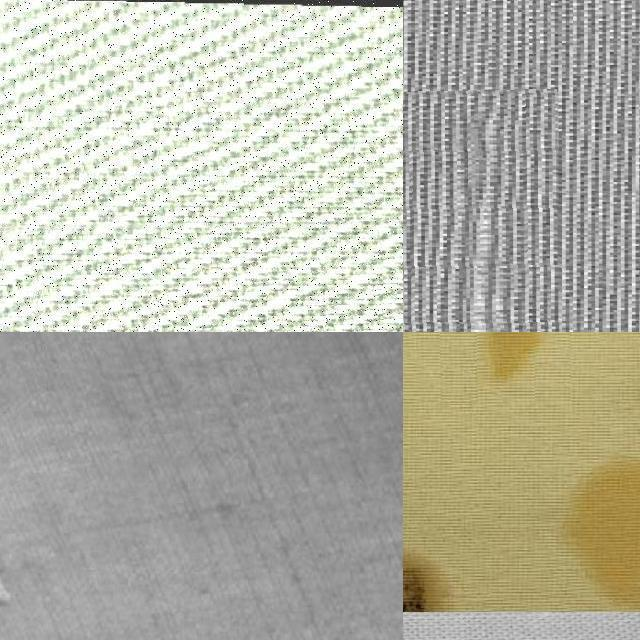Thread_other: (529, 439, 640, 611), (440, 332, 571, 403), (403, 512, 493, 611)
other: (0, 343, 112, 640)
stains: (0, 219, 403, 332), (403, 88, 563, 332)
